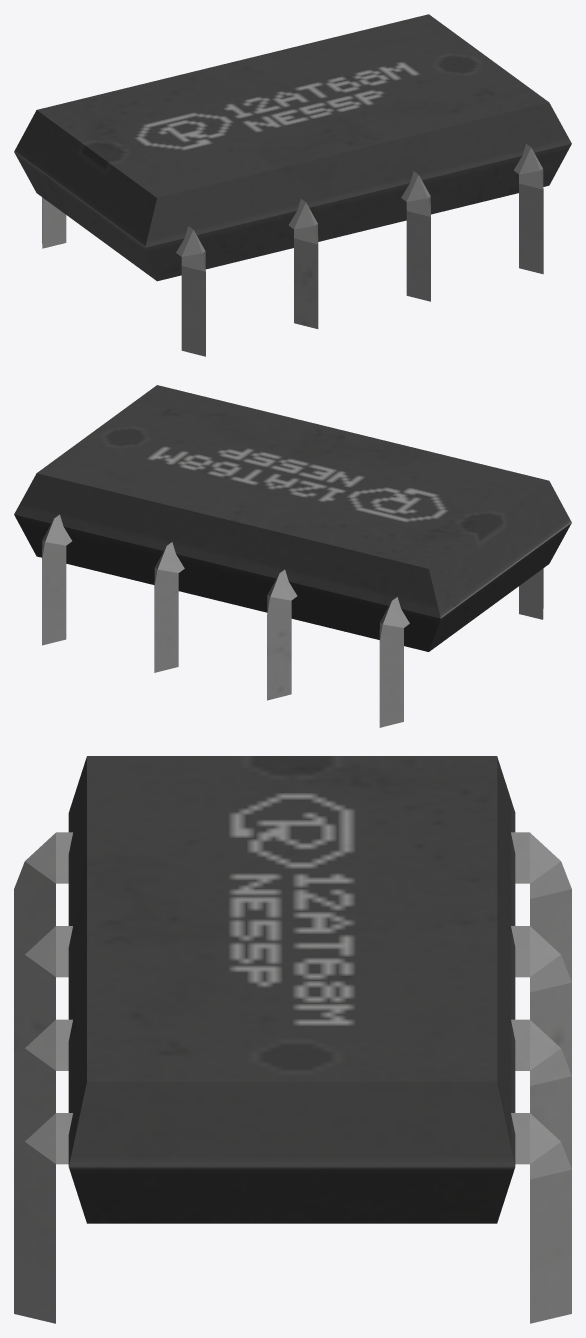
The picture shows the model from 3 angles, top to bottom: view 1: azimuth 30°, elevation 25°; view 2: azimuth 150°, elevation 25°; view 3: azimuth 270°, elevation 25°; orthographic projection. The views are drawn at different scales.
Parts seen in each view (by area): view 1: IC_Sphere.013; view 2: IC_Sphere.013; view 3: IC_Sphere.013.
Part boxes in pixels (<box>): IC_Sphere.013: <box>14,14,571,356</box>; IC_Sphere.013: <box>14,385,571,727</box>; IC_Sphere.013: <box>14,756,571,1323</box>.
Size of the model in its own units: 0.197 by 0.066 by 0.131.
Materials: 1 (1 with a texture image).
